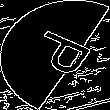P_SE: (16, 27, 94, 83)
